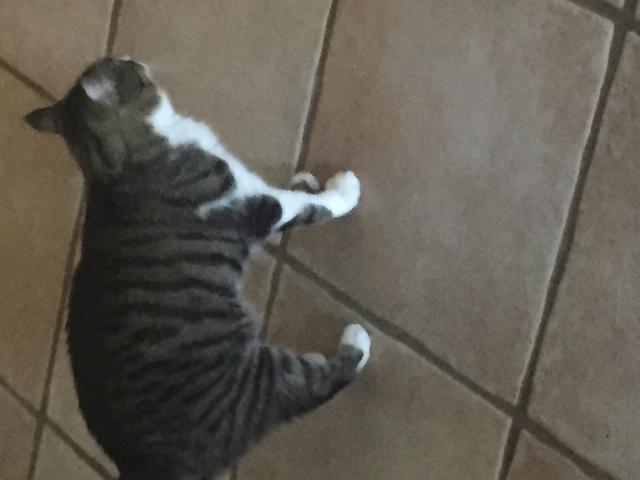playdoh: (26, 55, 374, 480)
